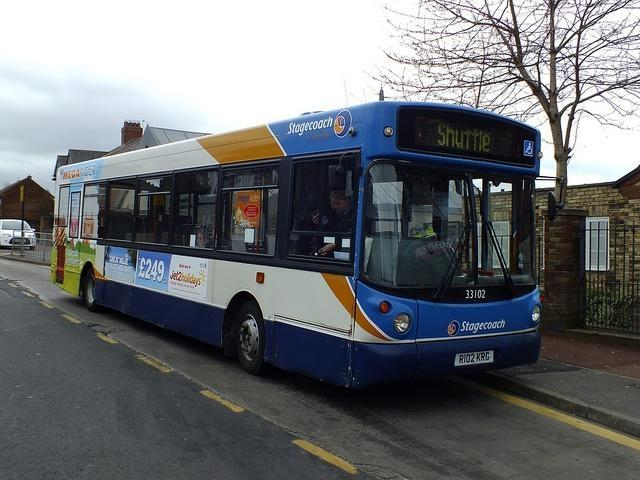bus: (42, 100, 550, 396)
car: (0, 220, 38, 248)
